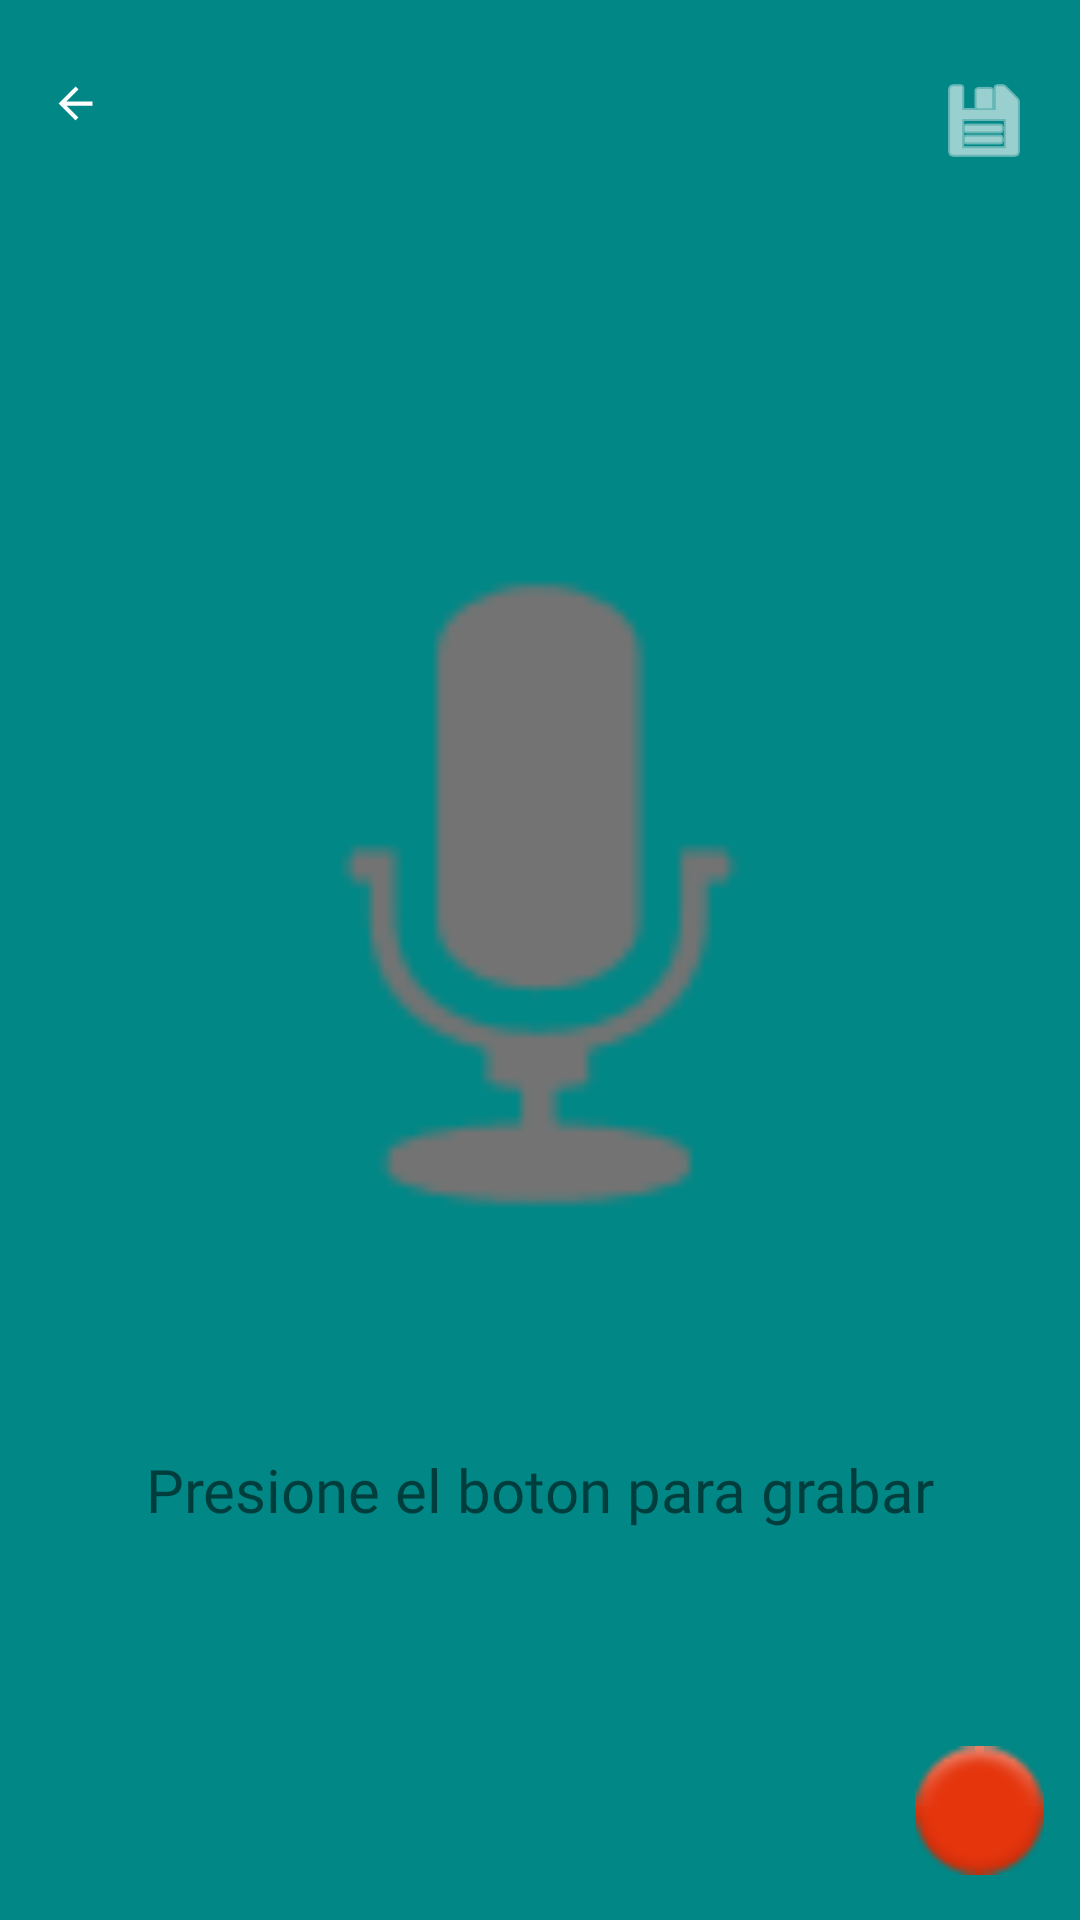

Locate icon controls on the screen. Image size 1080w x 1920h, boxes as (x1, y1, x2, y2).
save: (948, 84, 1020, 157)
